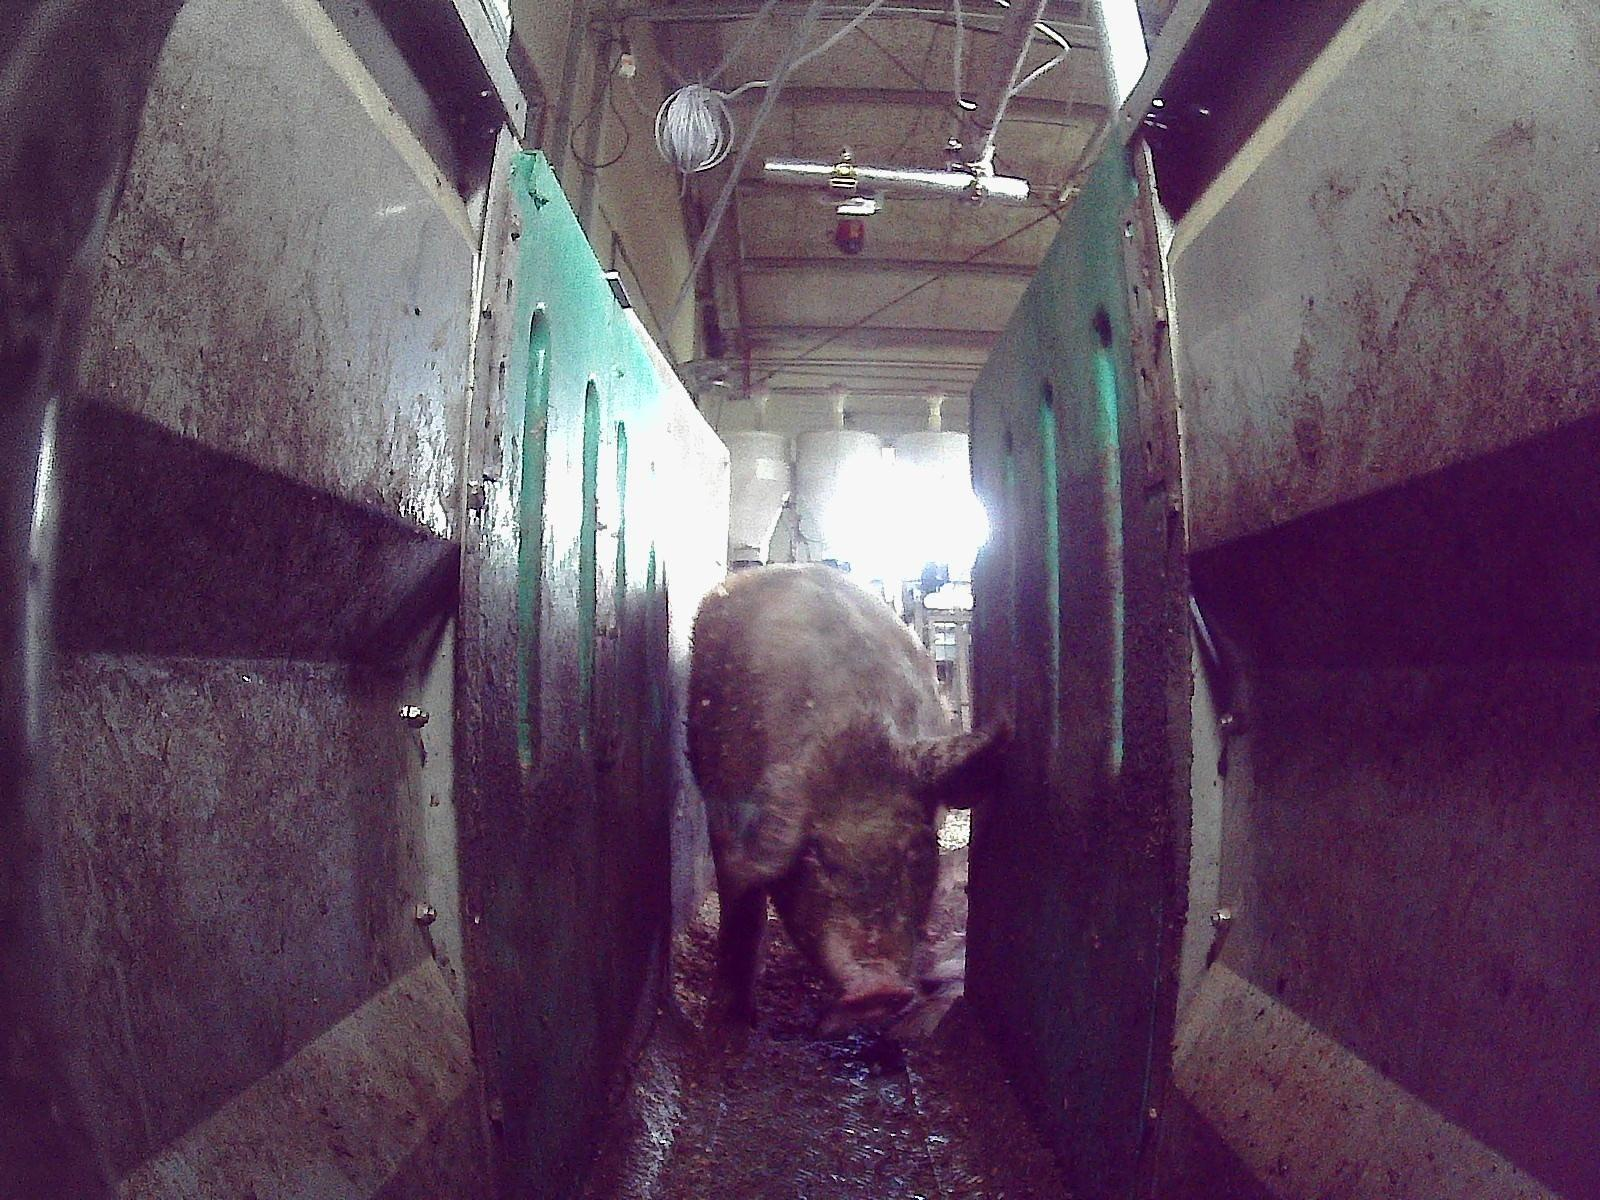Face: (773, 727, 942, 1022)
